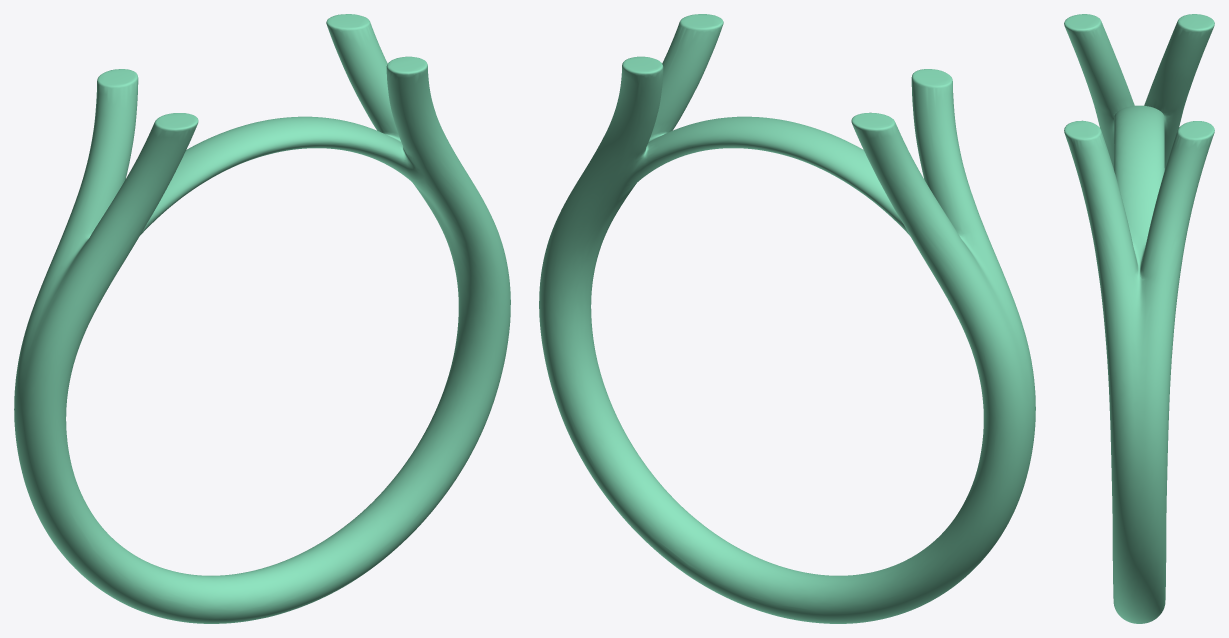
The picture shows the model from 3 angles, left to right: view 1: azimuth 30°, elevation 25°; view 2: azimuth 150°, elevation 25°; view 3: azimuth 270°, elevation 25°; orthographic projection. The views are drawn at different scales.
Visible parts, largest first — view 1: Metal02; view 2: Metal02; view 3: Metal02.
Part boxes in pixels (left/top/right/bottom): Metal02: left=14, top=14, right=510, bottom=623; Metal02: left=539, top=14, right=1035, bottom=623; Metal02: left=1064, top=14, right=1214, bottom=623.
Size of the model in its own units: 20.9 by 22.39 by 5.84.
